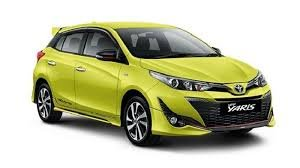mobil: (30, 20, 279, 144)
